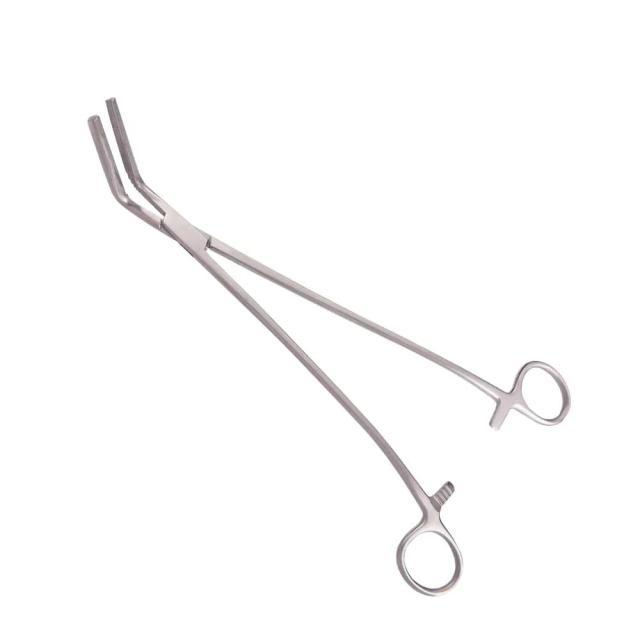Right Angle Colon Clamp: (80, 84, 577, 597)
